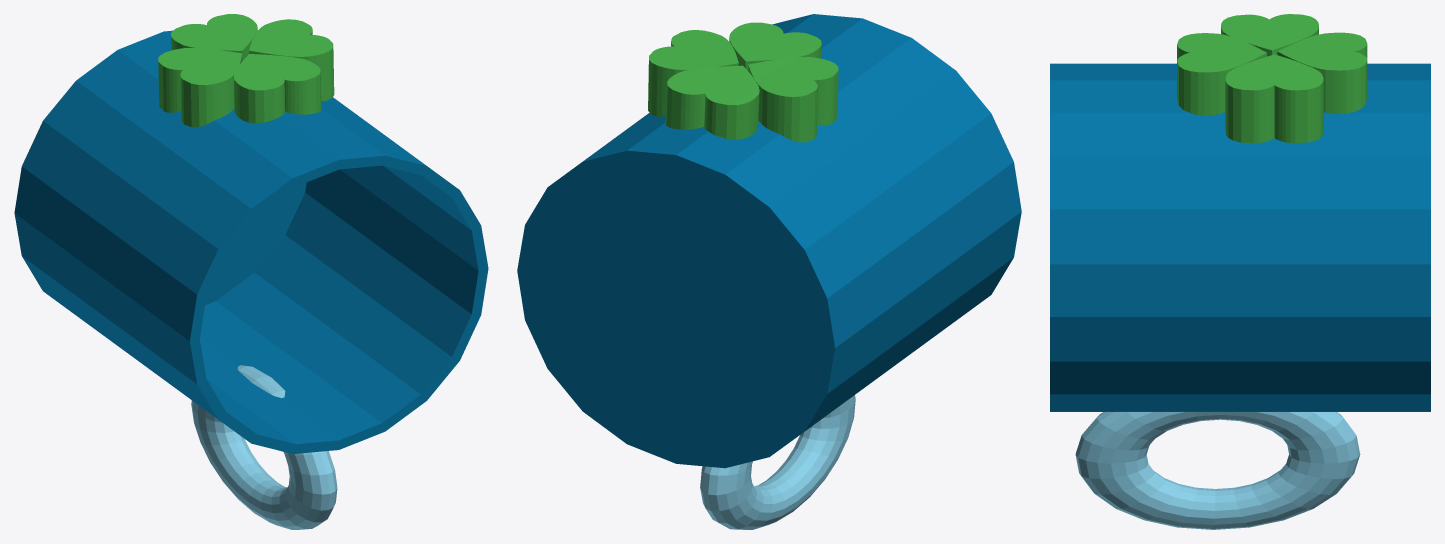
Rendered from tinker.obj.
3 renders of one model, left to right at view 1: azimuth 30°, elevation 25°; view 2: azimuth 150°, elevation 25°; view 3: azimuth 270°, elevation 25°, orthographic. The views are drawn at different scales.
Visible parts, largest first — view 1: group_0_30377, group_0_4634441, group_0_8768998; view 2: group_0_30377, group_0_4634441, group_0_8768998; view 3: group_0_30377, group_0_8768998, group_0_4634441.
Boxes of the visible parts, left/top/right/bottom form: group_0_30377: left=14, top=30, right=488, bottom=453; group_0_4634441: left=158, top=14, right=334, bottom=127; group_0_8768998: left=191, top=365, right=337, bottom=529; group_0_30377: left=517, top=14, right=1021, bottom=468; group_0_4634441: left=648, top=22, right=838, bottom=142; group_0_8768998: left=700, top=395, right=855, bottom=529; group_0_30377: left=1050, top=63, right=1430, bottom=411; group_0_8768998: left=1075, top=412, right=1360, bottom=529; group_0_4634441: left=1177, top=14, right=1367, bottom=143.
Bounding box in the file's own units: 59 × 83.53 × 60.
